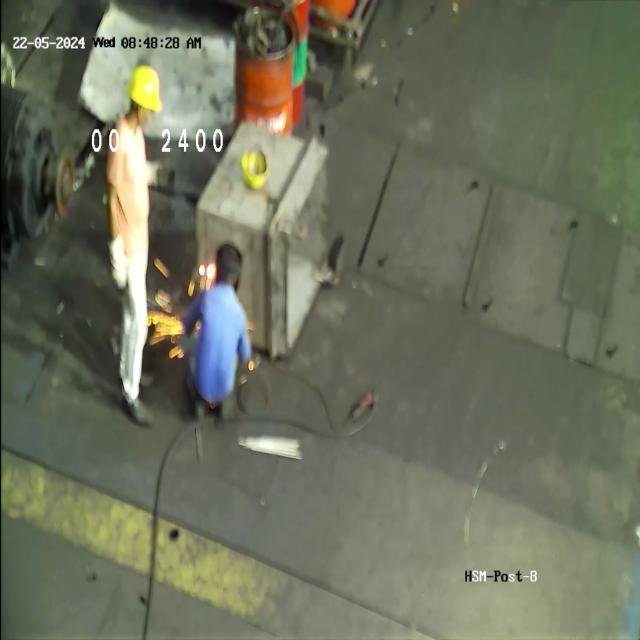Boots: (114, 344, 163, 394), (118, 380, 155, 436), (183, 393, 206, 432), (218, 392, 239, 425)
Gloves: (103, 228, 136, 299), (146, 154, 188, 204)
Hardhat: (124, 45, 163, 137), (235, 135, 272, 196)
Person: (178, 243, 253, 417)
